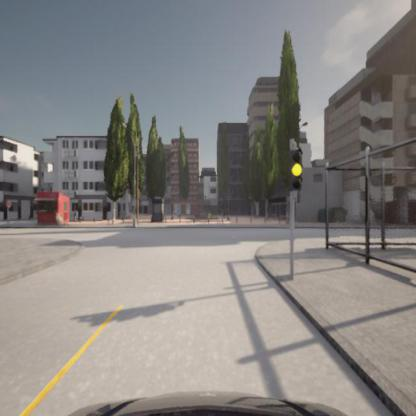traffic_light_orange: (289, 147, 303, 189)
